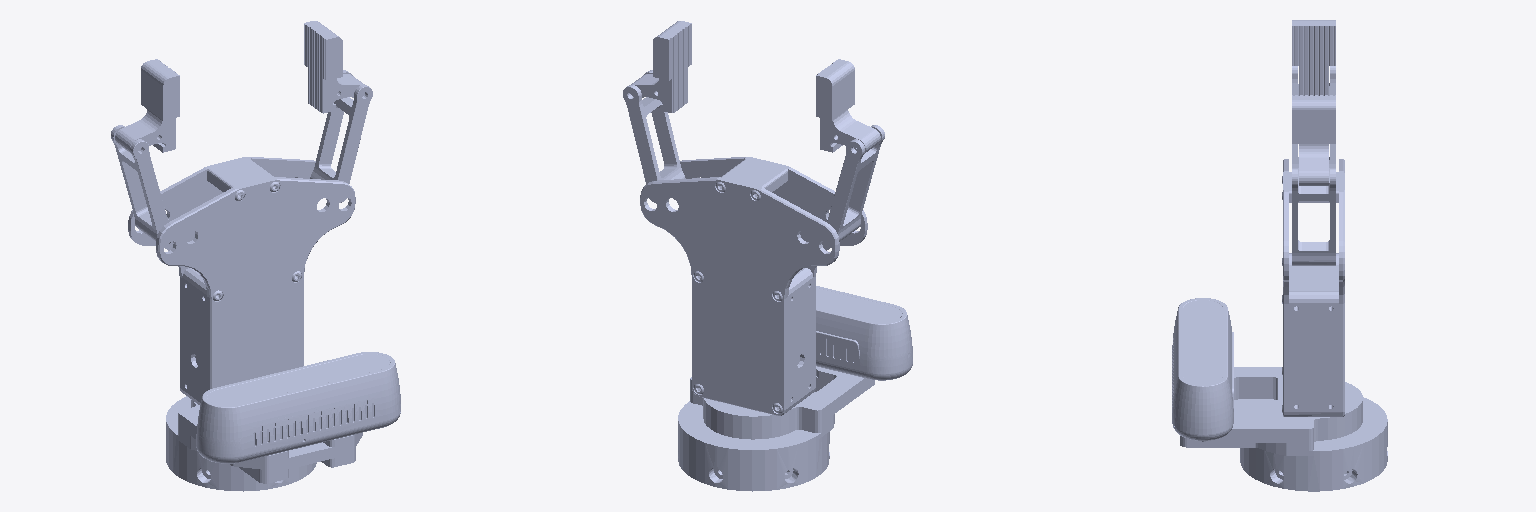
The robot description file, URDF, robot "AIRBOT_hand":
<?xml version="1.0" encoding="utf-8"?>
<!-- This URDF was automatically created by SolidWorks to URDF Exporter! Originally created by [author] ([email redacted]) 
     Commit Version: 1.6.0-4-g7f85cfe  Build Version: 1.6.7995.38578
     For more information, please see http://wiki.ros.org/sw_urdf_exporter -->
<robot
  name="AIRBOT_hand">
  <mujoco>
    <compiler meshdir="../all/" balanceinertia="true" discardvisual="false" />
  </mujoco>

  <link name="root">
    <inertial>
      <mass value="0.01"/>
      <inertia ixx="1e-4" ixy="0.0" ixz="0.0" iyy="1e-4" iyz="0.0" izz="1e-4"/>
    </inertial>
  </link>
  <link name="root1">
    <inertial>
      <mass value="0.01"/>
      <inertia ixx="1e-4" ixy="0.0" ixz="0.0" iyy="1e-4" iyz="0.0" izz="1e-4"/>
    </inertial>
  </link>
  <link name="root2">
    <inertial>
      <mass value="0.01"/>
      <inertia ixx="1e-4" ixy="0.0" ixz="0.0" iyy="1e-4" iyz="0.0" izz="1e-4"/>
    </inertial>
  </link>
  <link name="root3">
    <inertial>
      <mass value="0.01"/>
      <inertia ixx="1e-4" ixy="0.0" ixz="0.0" iyy="1e-4" iyz="0.0" izz="1e-4"/>
    </inertial>
  </link>
  <link name="root4">
    <inertial>
      <mass value="0.01"/>
      <inertia ixx="1e-4" ixy="0.0" ixz="0.0" iyy="1e-4" iyz="0.0" izz="1e-4"/>
    </inertial>
  </link>
  <link name="root5">
    <inertial>
      <mass value="1"/>
      <inertia ixx="0.05" ixy="0.0" ixz="0.0" iyy="0.05" iyz="0.0" izz="0.05"/>
    </inertial>
  </link>
  <joint name="x_joint" type="prismatic">
    <parent link="root"/>
    <child link="root1"/>
    <axis xyz="1 0 0"/>
    <limit lower="-10" upper="10"/>
  </joint>
  <joint name="y_joint" type="prismatic">
    <parent link="root1"/>
    <child link="root2"/>
    <axis xyz="0 1 0"/>
    <limit lower="-10" upper="10"/>
  </joint>
  <joint name="z_joint" type="prismatic">
    <parent link="root2"/>
    <child link="root3"/>
    <axis xyz="0 0 1"/>
    <limit lower="-10" upper="10"/>
  </joint>
  <joint name="x_rotation_joint" type="continuous">
    <parent link="root3"/>
    <child link="root4"/>
    <axis xyz="1 0 0"/>
  </joint>
  <joint name="y_rotation_joint" type="continuous">
    <parent link="root4"/>
    <child link="root5"/>
    <axis xyz="0 1 0"/>
  </joint>
  <joint name="z_rotation_joint" type="continuous">
    <parent link="root5"/>
    <child link="gripper_link"/>
    <axis xyz="0 0 1"/>
  </joint>
  <link
    name="gripper_link">
    <inertial>
      <origin
        xyz="-0.000179 -0.012920 0.115245"
        rpy="0 0 0" />
      <mass
        value="0.202483822224683" />
      <inertia
        ixx="8.72656224038094E-05"
        ixy="2.1157802312087E-09"
        ixz="4.46212258304102E-07"
        iyy="0.000110884338373626"
        iyz="3.53923491606382E-06"
        izz="9.50216775187288E-05" />
    </inertial>
    <visual>
      <origin
        xyz="0 0 -0.003"
        rpy="0 0 0" />
      <geometry>
        <mesh
          filename="../all/gripper_link.obj" />
      </geometry>
      <material
        name="phong1SG">
        <color
          rgba="0.792156862745098 0.819607843137255 0.933333333333333 1" />
      </material>
    </visual>
    <collision>
      <origin
        xyz="0 0 -0.003"
        rpy="0 0 0" />
      <geometry>
        <mesh
          filename="../all/gripper_link.obj" />
      </geometry>
    </collision>
  </link>
  <link
    name="gripper_link10">
    <inertial>
      <origin
        xyz="0.0162376775855017 0.00170828143838967 1.60704782814491E-14"
        rpy="0 0 0" />
      <mass
        value="0.00248574193257273" />
      <inertia
        ixx="1.1187321281772E-07"
        ixy="-6.68088965340704E-19"
        ixz="-1.14085928959275E-18"
        iyy="6.84359115875508E-07"
        iyz="-3.99246934174549E-19"
        izz="5.89072994948579E-07" />
    </inertial>
    <visual>
      <origin
        xyz="0 0 0"
        rpy="0 0 0" />
      <geometry>
        <mesh
          filename="../all/gripper_link10.obj" />
      </geometry>
      <material
        name="lambert2SG">
        <color
          rgba="0.792156862745098 0.819607843137255 0.933333333333333 1" />
      </material>
    </visual>
    <collision>
      <origin
        xyz="0 0 0"
        rpy="0 0 0" />
      <geometry>
        <mesh
          filename="../all/gripper_link10.obj" />
      </geometry>
    </collision>
  </link>
  <joint
    name="joint_gripper10"
    type="revolute">
    <origin
      xyz="-0.038533 0.00036 0.18735"
      rpy="-1.5708 -1.304 3.1416" />
    <parent
      link="gripper_link" />
    <child
      link="gripper_link10" />
    <axis
      xyz="0 0 1" />
    <limit
      lower="-10"
      upper="10"
      effort="20"
      velocity="0.2" />
  </joint>
  <link
    name="gripper_link11">
    <inertial>
      <origin
        xyz="-0.0110043692378349 0.00972866237979003 -3.15436854414486E-09"
        rpy="0 0 0" />
      <mass
        value="0.00450681926243327" />
      <inertia
        ixx="1.99225999101227E-07"
        ixy="9.189631443366E-08"
        ixz="1.32669175648538E-13"
        iyy="5.14550853833888E-07"
        iyz="-4.49972931710022E-14"
        izz="5.32027763416069E-07" />
    </inertial>
    <visual>
      <origin
        xyz="0 0 0"
        rpy="0 0 0" />
      <geometry>
        <mesh
          filename="../all/gripper_link11.obj" />
      </geometry>
      <material
        name="lambert2SG">
        <color
          rgba="0.792156862745098 0.819607843137255 0.933333333333333 1" />
      </material>
    </visual>
    <collision>
      <origin
        xyz="0 0 0"
        rpy="0 0 0" />
      <geometry>
        <mesh
          filename="../all/gripper_link11.obj" />
      </geometry>
    </collision>
  </link>
  <joint
    name="joint_gripper11"
    type="revolute">
    <origin
      xyz="0.041998 -0.00037577 0"
      rpy="0 0 2.8658" />
    <parent
      link="gripper_link10" />
    <child
      link="gripper_link11" />
    <axis
      xyz="0 0 1" />
    <limit
      lower="-10"
      upper="10"
      effort="20"
      velocity="0.2" />
  </joint>
  <link
    name="gripper_link20">
    <inertial>
      <origin
        xyz="0.0160458916846533 0.00170815882510347 -1.61815005839117E-14"
        rpy="0 0 0" />
      <mass
        value="0.0024857419325728" />
      <inertia
        ixx="1.11873212817726E-07"
        ixy="6.5445041140093E-19"
        ixz="1.13838047913434E-18"
        iyy="6.84359115875493E-07"
        iyz="-3.98790262211301E-19"
        izz="5.8907299494856E-07" />
    </inertial>
    <visual>
      <origin
        xyz="0 0 0"
        rpy="0 0 0" />
      <geometry>
        <mesh
          filename="../all/gripper_link20.obj" />
      </geometry>
      <material
        name="lambert2SG">
        <color
          rgba="0.792156862745098 0.819607843137255 0.933333333333333 1" />
      </material>
    </visual>
    <collision>
      <origin
        xyz="0 0 0"
        rpy="0 0 0" />
      <geometry>
        <mesh
          filename="../all/gripper_link20.obj" />
      </geometry>
    </collision>
  </link>
  <joint
    name="joint_gripper20"
    type="revolute">
    <origin
      xyz="0.041464 0.00036 0.18664"
      rpy="1.5708 -1.304 0" />
    <parent
      link="gripper_link" />
    <child
      link="gripper_link20" />
    <axis
      xyz="0 0 1" />
    <limit
      lower="-10"
      upper="10"
      effort="20"
      velocity="0.2" />
  </joint>
  <link
    name="gripper_link21">
    <inertial>
      <origin
        xyz="-0.0117059608928904 -0.0140030860218414 3.11077152925776E-09"
        rpy="0 0 0" />
      <mass
        value="0.00450681912675432" />
      <inertia
        ixx="2.02615006762524E-07"
        ixy="-9.74786442765277E-08"
        ixz="-1.30502494006714E-13"
        iyy="5.11161832405036E-07"
        iyz="-4.71432886532517E-14"
        izz="5.32027750665231E-07" />
    </inertial>
    <visual>
      <origin
        xyz="0 0 0"
        rpy="0 0 0" />
      <geometry>
        <mesh
          filename="../all/gripper_link21.obj" />
      </geometry>
      <material
        name="lambert2SG">
        <color
          rgba="0.792156862745098 0.819607843137255 0.933333333333333 1" />
      </material>
    </visual>
    <collision>
      <origin
        xyz="0 0 0"
        rpy="0 0 0" />
      <geometry>
        <mesh
          filename="../all/gripper_link21.obj" />
      </geometry>
    </collision>
  </link>
  <joint
    name="joint_gripper21"
    type="revolute">
    <origin
      xyz="0.041998 -0.00037577 0"
      rpy="0 0 -2.8837" />
    <parent
      link="gripper_link20" />
    <child
      link="gripper_link21" />
    <axis
      xyz="0 0 1" />
    <limit
      lower="-10"
      upper="10"
      effort="20"
      velocity="0.2" />
    <!-- <mimic
      joint="joint_gripper10"
      multiplier="1"
      offset="0" /> -->
  </joint>
  <link
    name="custom_end_link">
    <inertial>
      <origin
        xyz="0 0 0"
        rpy="0 0 0" />
      <mass
        value="1E-15" />
      <inertia
        ixx="1E-11"
        ixy="1E-15"
        ixz="1E-15"
        iyy="1E-11"
        iyz="1E-15"
        izz="1E-11" />
    </inertial>
  </link>
  <joint
    name="joint_custom_end"
    type="fixed">
    <origin
      xyz="0 0 0.255"
      rpy="1.5708 -1.5708 0" />
    <parent
      link="gripper_link" />
    <child
      link="custom_end_link" />
  </joint>
</robot>

--- Render facts (derived) ---
Views: 3 orthographic renders of the robot side by side, from view 1: azimuth 30°, elevation 25°; view 2: azimuth 150°, elevation 25°; view 3: azimuth 270°, elevation 25°.
Robot: AIRBOT_hand — 12 links, 11 joints (4 revolute, 3 continuous, 3 prismatic, 1 fixed); root link root; default pose: all joints at 0.
Links seen in each view (by area): view 1: gripper_link, gripper_link11, gripper_link21, gripper_link20, gripper_link10; view 2: gripper_link, gripper_link11, gripper_link21, gripper_link20, gripper_link10; view 3: gripper_link, gripper_link21, gripper_link11, gripper_link20, gripper_link10.
Link boxes in pixels (x1,y1,x2,y2): gripper_link: [128, 157, 400, 491]; gripper_link11: [115, 59, 179, 152]; gripper_link21: [304, 21, 364, 113]; gripper_link20: [310, 70, 372, 202]; gripper_link10: [111, 125, 171, 245]; gripper_link: [640, 157, 912, 491]; gripper_link11: [816, 59, 880, 152]; gripper_link21: [630, 21, 691, 112]; gripper_link20: [623, 70, 685, 202]; gripper_link10: [824, 125, 884, 245]; gripper_link: [1172, 159, 1387, 491]; gripper_link21: [1292, 95, 1335, 185]; gripper_link11: [1292, 20, 1335, 95]; gripper_link20: [1292, 168, 1335, 265]; gripper_link10: [1292, 66, 1335, 171].
Size in the robot's own frame: 0.1096 by 0.0875 by 0.181 metres.
5 mesh visuals loaded from 5 distinct referenced files (5 OBJ).